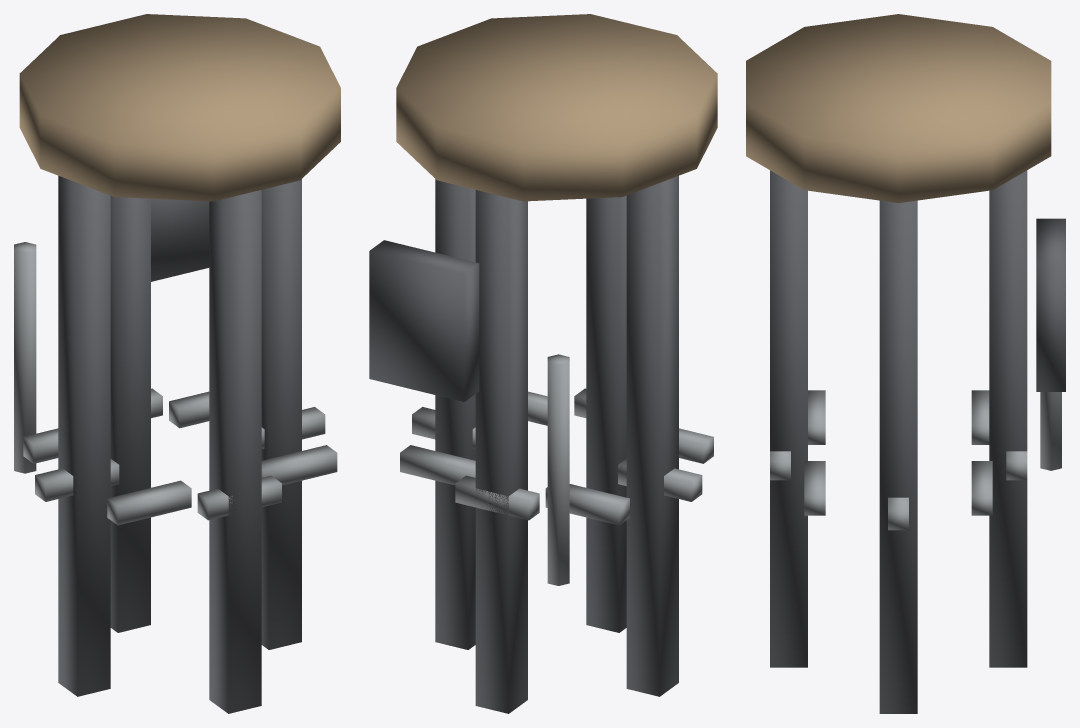
File: bar_stool__service.glb
3 renders of one model, left to right at view 1: azimuth 30°, elevation 25°; view 2: azimuth 150°, elevation 25°; view 3: azimuth 270°, elevation 25°, orthographic.
Parts seen in each view (by area): view 1: world; view 2: world; view 3: world.
Part boxes in pixels (x1,y1,x2,y2): world: (14, 14, 340, 713); world: (369, 14, 717, 713); world: (746, 14, 1065, 713).
Bounding box in the file's own units: 0.38 × 0.755 × 0.3789.
